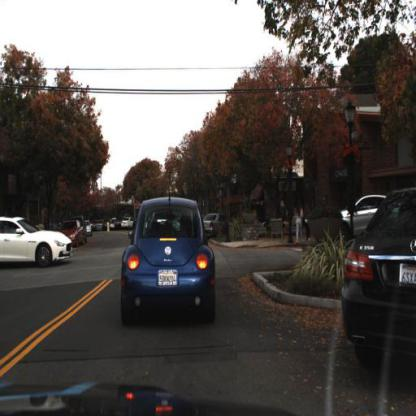car: (338, 182, 416, 366), (119, 196, 219, 332), (1, 213, 77, 273), (322, 186, 398, 246), (202, 211, 232, 241), (122, 217, 133, 231)
pedestrian: (294, 199, 305, 244), (280, 199, 289, 234)
